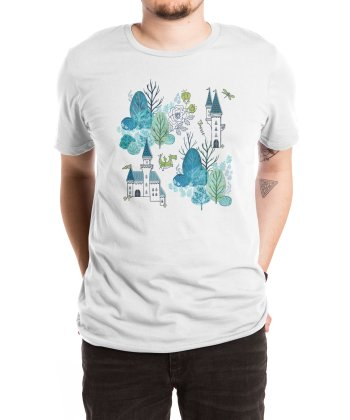design: (114, 78, 236, 213)
